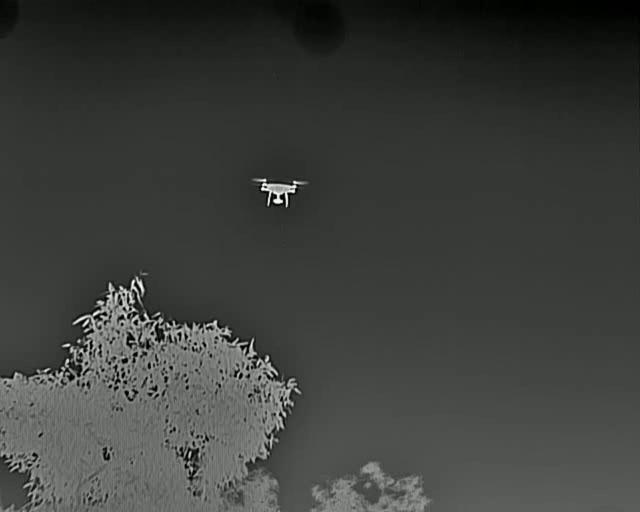DJI-Phantom: (247, 177, 309, 210)
